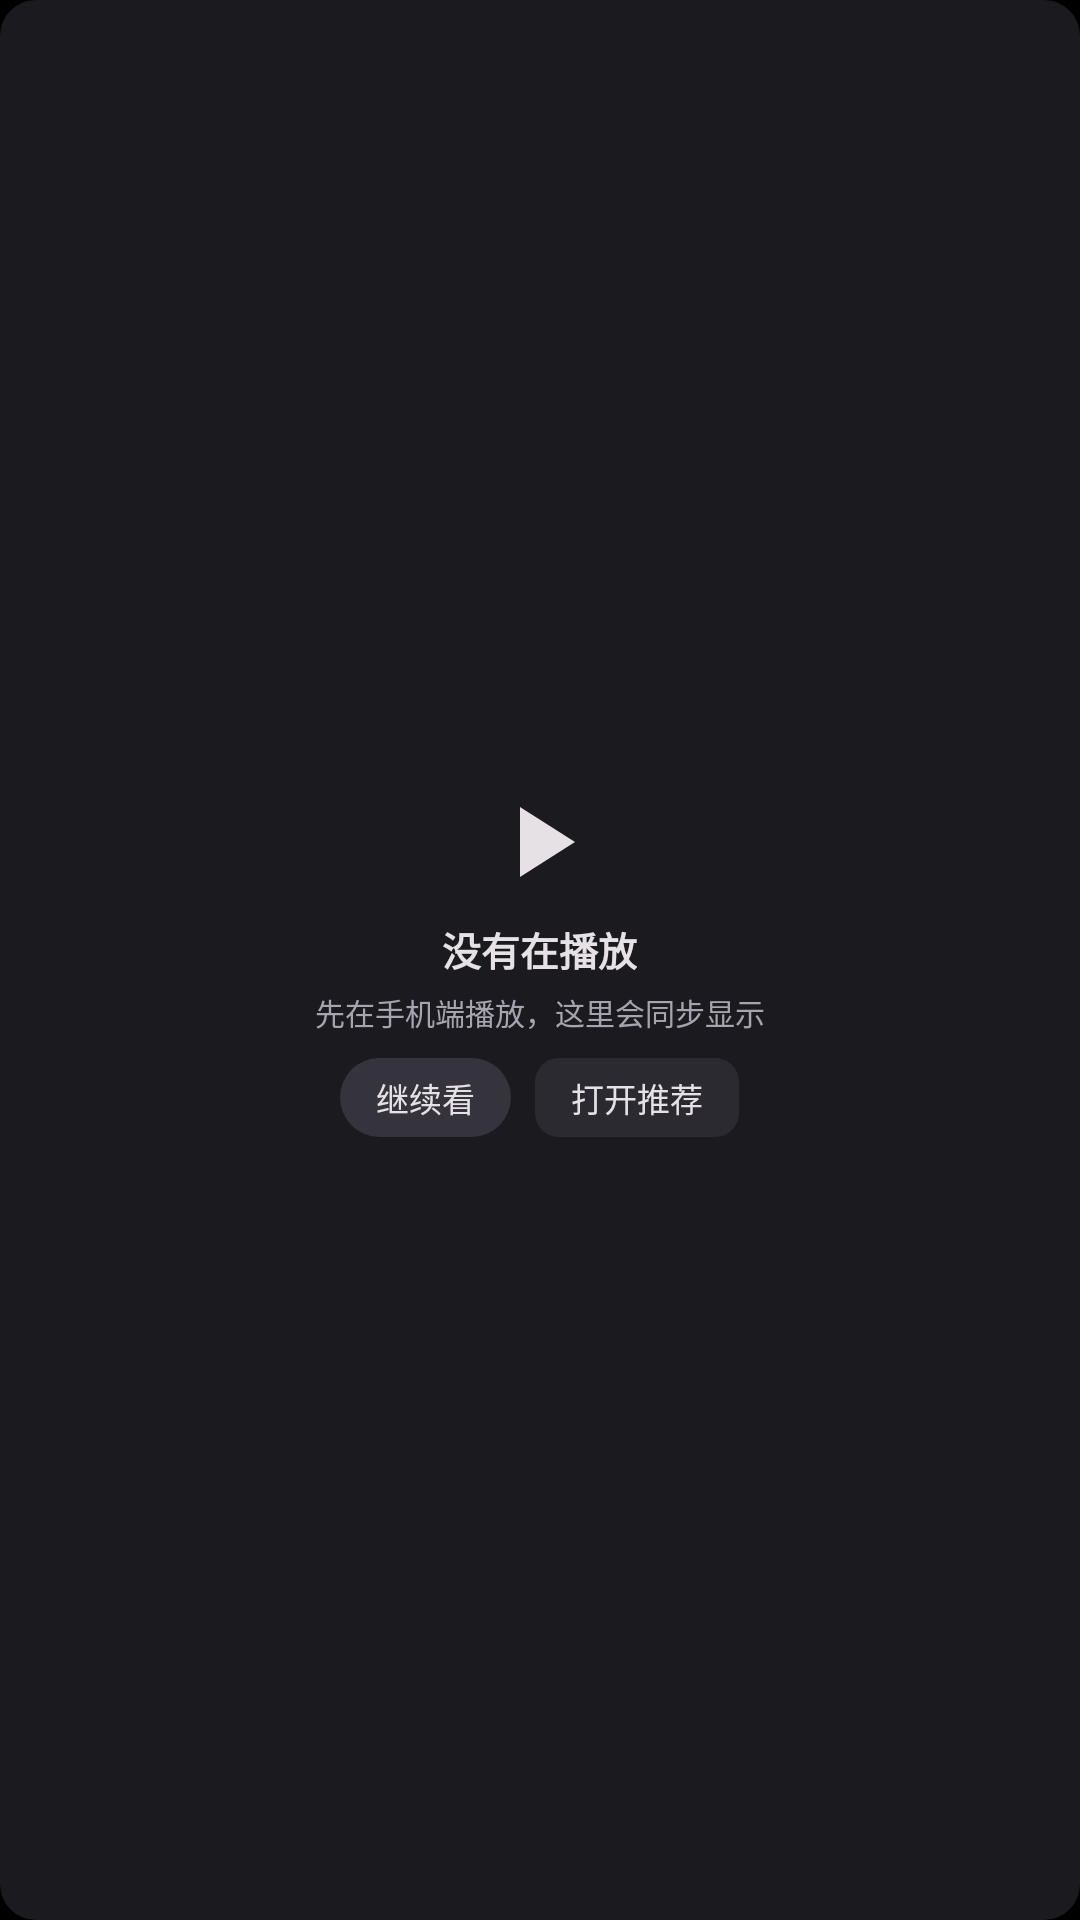

Where icons sit on this 1080 x 1920 app screen, as (x1, y1, x2, y2):
widget play: (520, 807, 575, 877)
